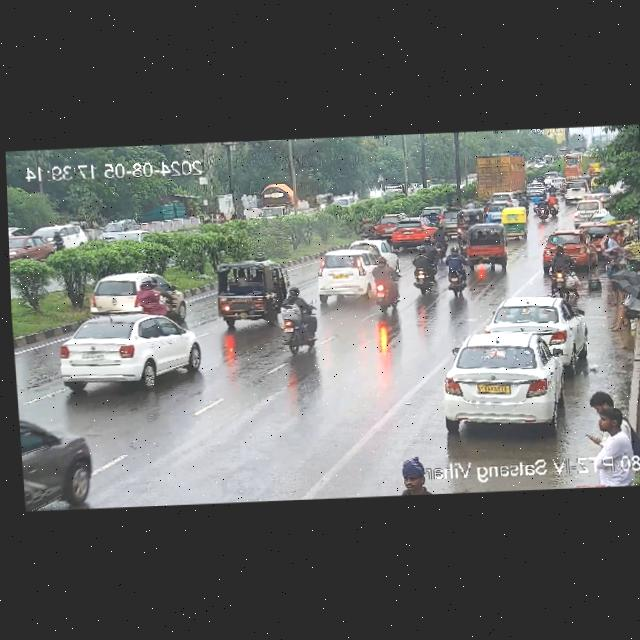bus: (561, 154, 592, 181)
car: (435, 329, 568, 431), (47, 313, 204, 395), (20, 412, 96, 511), (486, 293, 584, 359), (311, 239, 394, 306), (208, 258, 286, 323), (539, 230, 594, 267), (464, 225, 509, 263), (9, 230, 57, 263), (390, 214, 435, 244), (498, 208, 527, 239), (570, 199, 605, 221), (579, 220, 602, 253), (560, 181, 589, 202), (372, 216, 397, 239), (437, 209, 461, 231), (422, 204, 445, 222), (457, 209, 484, 224), (524, 180, 547, 195), (358, 218, 373, 240), (492, 192, 517, 205), (485, 203, 508, 216), (484, 200, 509, 209), (542, 170, 559, 180), (550, 178, 563, 188)
motorcycle: (282, 285, 324, 356), (407, 234, 439, 291), (548, 245, 577, 295), (137, 275, 173, 315), (445, 244, 468, 292), (533, 193, 556, 222), (532, 194, 547, 217), (52, 227, 64, 250), (518, 195, 527, 207), (464, 199, 473, 208)
person: (584, 388, 629, 442), (602, 285, 640, 331), (393, 455, 435, 496), (607, 249, 626, 302), (600, 226, 625, 253)
truck: (460, 152, 532, 199), (253, 183, 294, 221)
